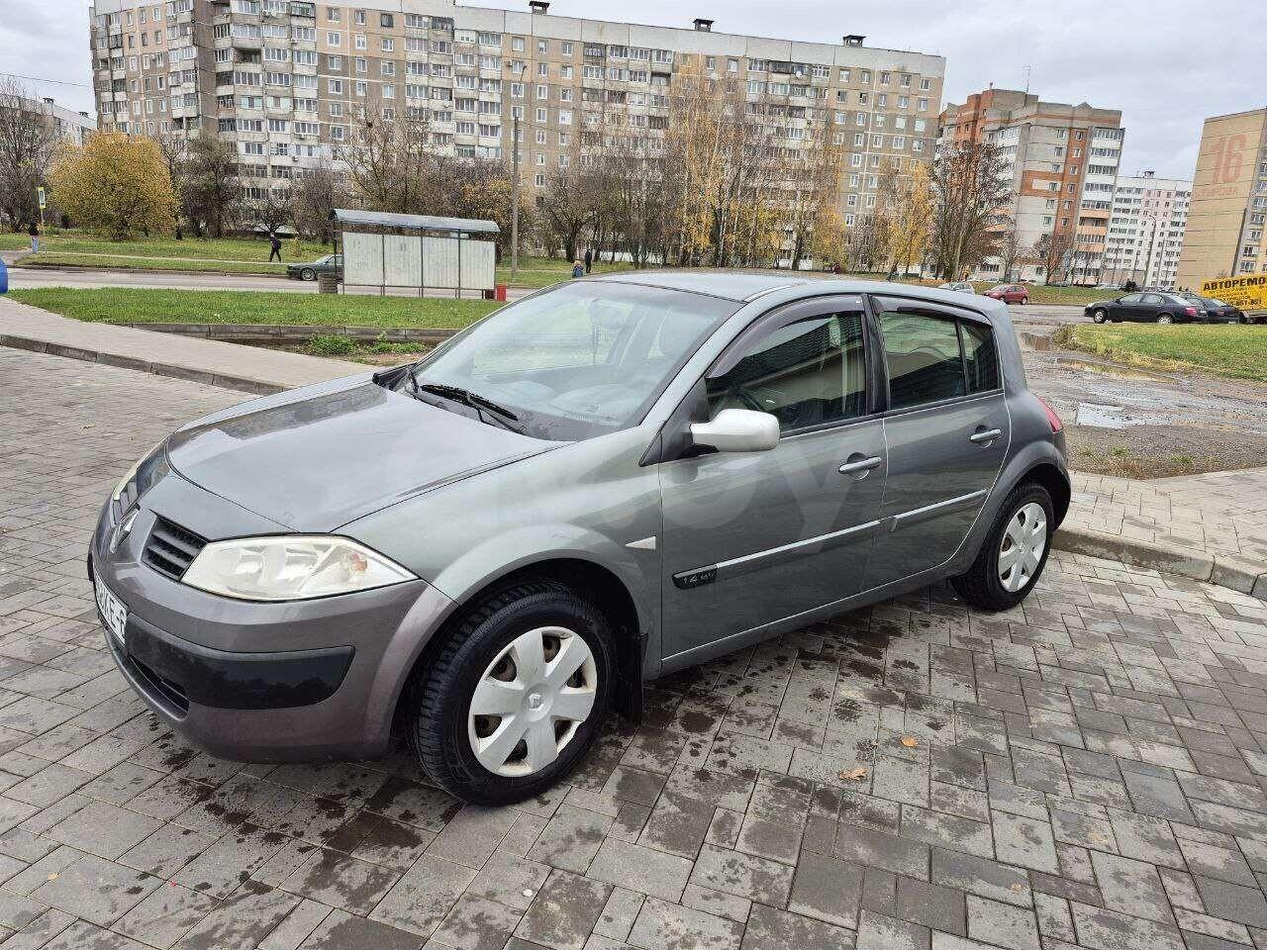Megane_2002-2006: (78, 262, 1079, 830)
